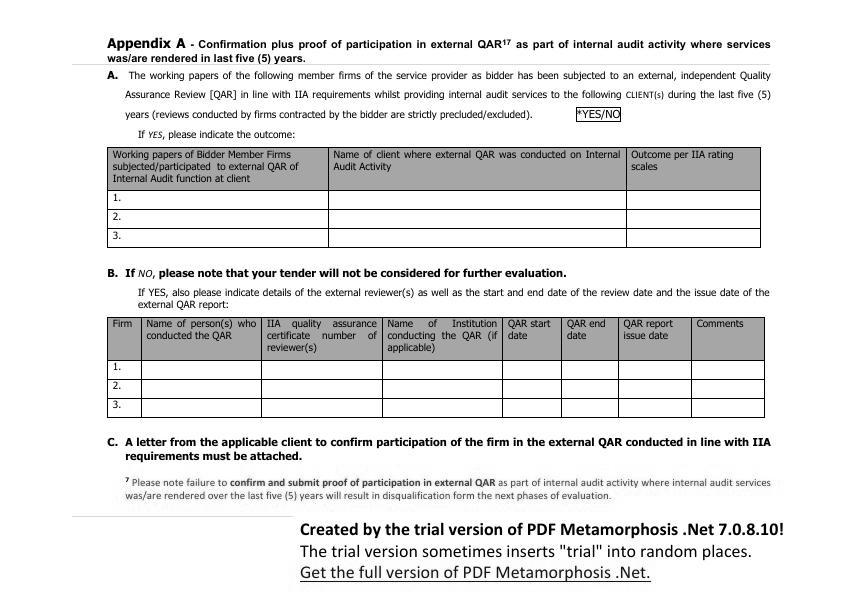table: (105, 315, 769, 424), (105, 144, 767, 253)
text: (103, 69, 784, 143), (293, 519, 793, 585), (103, 266, 774, 312), (103, 35, 774, 66), (117, 473, 780, 503), (103, 433, 778, 462)
